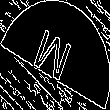M_SW: (32, 22, 78, 88)
